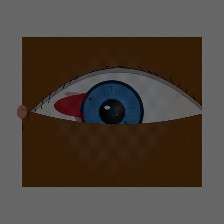hemorrhage_spot: (40, 66, 141, 146)
